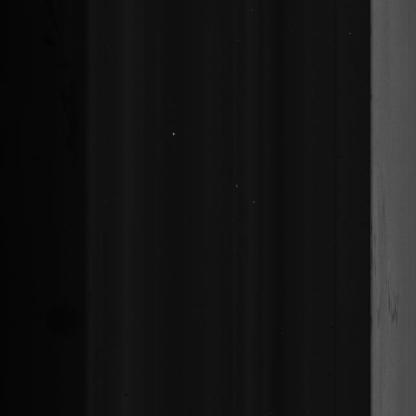silk_spot: (372, 198, 407, 356)
